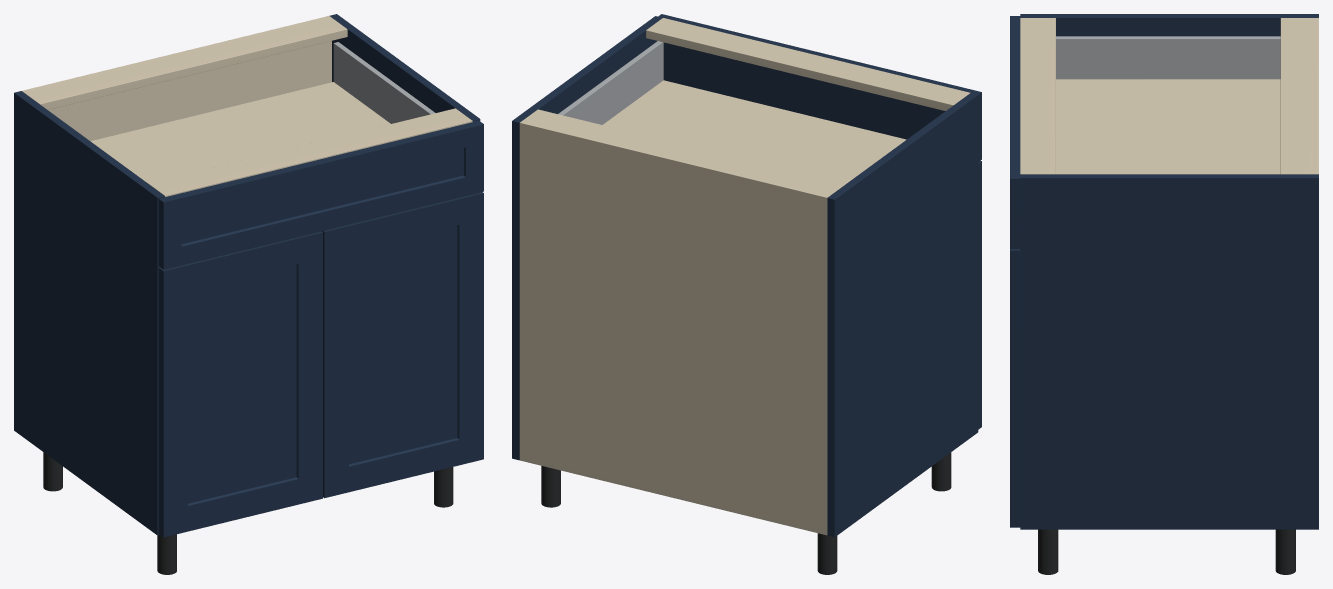
The model's file is oppein-ply-bss-b30.glb.
3 renders of one model, left to right at view 1: azimuth 30°, elevation 25°; view 2: azimuth 150°, elevation 25°; view 3: azimuth 270°, elevation 25°, orthographic. The views are drawn at different scales.
Parts seen in each view (by area): view 1: Cabinet side, Door, Door.001, Drawer front, Drawer floor, Cabinet back, Top support rail, Top support rail.001, Drawer side.001, Cabinet side.001, Adjustable foot.001, Adjustable foot.003 (+1 smaller); view 2: Cabinet back, Cabinet side, Drawer floor, Drawer front, Top support rail.001, Cabinet side.001, Top support rail, Drawer side.001, Door, Adjustable foot, Adjustable foot.002, Cabinet bottom (+1 smaller); view 3: Cabinet side.001, Drawer floor, Drawer side, Top support rail.001, Cabinet side, Top support rail, Door.001, Drawer front, Adjustable foot.003, Adjustable foot.002, Cabinet back.
Boxes of the visible parts, x1=… form: Cabinet side: x1=14, y1=91, x2=164, y2=535; Door: x1=158, y1=231, x2=322, y2=537; Door.001: x1=322, y1=192, x2=483, y2=498; Drawer front: x1=158, y1=120, x2=483, y2=269; Drawer floor: x1=90, y1=82, x2=390, y2=183; Cabinet back: x1=22, y1=16, x2=331, y2=140; Top support rail: x1=23, y1=17, x2=347, y2=109; Top support rail.001: x1=148, y1=108, x2=472, y2=196; Drawer side.001: x1=333, y1=42, x2=435, y2=123; Cabinet side.001: x1=329, y1=14, x2=480, y2=121; Adjustable foot.001: x1=157, y1=534, x2=176, y2=574; Adjustable foot.003: x1=434, y1=467, x2=453, y2=507; Cabinet back: x1=519, y1=120, x2=829, y2=534; Cabinet side: x1=827, y1=93, x2=978, y2=537; Drawer floor: x1=603, y1=80, x2=906, y2=184; Drawer front: x1=658, y1=14, x2=981, y2=161; Top support rail.001: x1=646, y1=18, x2=969, y2=110; Cabinet side.001: x1=512, y1=16, x2=662, y2=460; Top support rail: x1=523, y1=109, x2=844, y2=195; Drawer side.001: x1=558, y1=41, x2=663, y2=124; Door: x1=978, y1=160, x2=981, y2=429; Adjustable foot: x1=817, y1=533, x2=837, y2=574; Adjustable foot.002: x1=541, y1=466, x2=560, y2=507; Cabinet bottom: x1=519, y1=456, x2=826, y2=535; Cabinet side.001: x1=1020, y1=174, x2=1318, y2=529; Drawer floor: x1=1056, y1=79, x2=1280, y2=174; Drawer side: x1=1056, y1=36, x2=1280, y2=79; Top support rail.001: x1=1020, y1=18, x2=1055, y2=174; Cabinet side: x1=1020, y1=14, x2=1318, y2=36; Top support rail: x1=1280, y1=18, x2=1315, y2=174; Door.001: x1=1010, y1=249, x2=1020, y2=527; Drawer front: x1=1010, y1=16, x2=1020, y2=248; Adjustable foot.003: x1=1038, y1=529, x2=1058, y2=574; Adjustable foot.002: x1=1275, y1=529, x2=1295, y2=574; Cabinet back: x1=1313, y1=18, x2=1318, y2=174.
Size of the model in its own units: 0.762 by 0.8763 by 0.6064.
